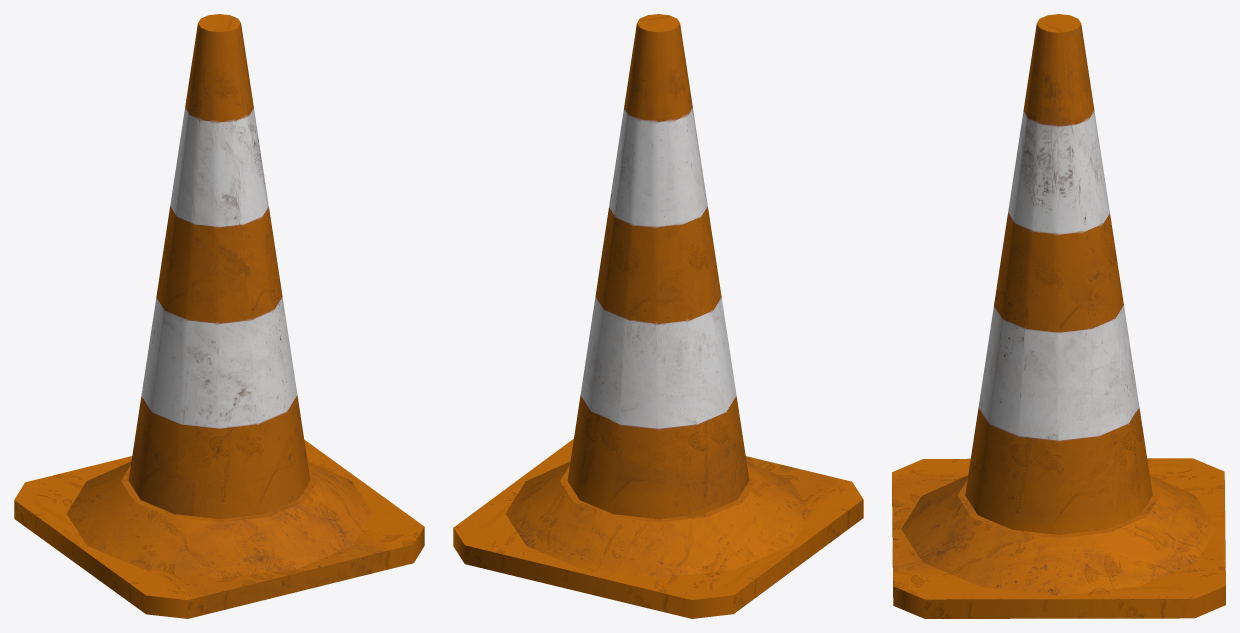
The model's file is Road_Cone.fbx.
3 renders of one model, left to right at view 1: azimuth 30°, elevation 25°; view 2: azimuth 150°, elevation 25°; view 3: azimuth 270°, elevation 25°, orthographic. The views are drawn at different scales.
Visible parts, largest first — view 1: Road_Cone.002; view 2: Road_Cone.002; view 3: Road_Cone.002.
Part boxes in pixels (x1=…): Road_Cone.002: x1=14, y1=14, x2=424, y2=618; Road_Cone.002: x1=453, y1=14, x2=863, y2=618; Road_Cone.002: x1=892, y1=14, x2=1225, y2=618.
Size of the model in its own units: 14.91 by 25.85 by 14.91.
1 material, 1 textured.
